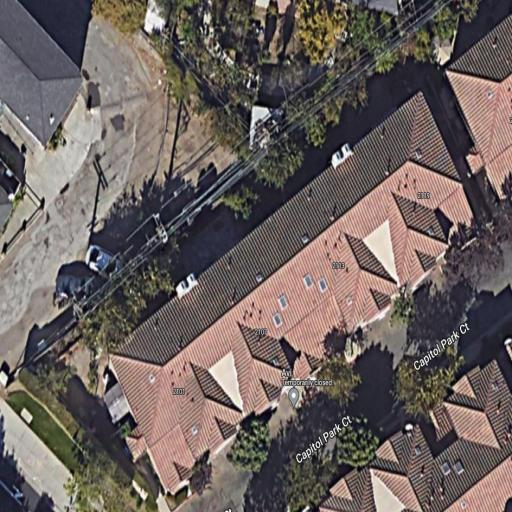Slope-Roof: (107, 91, 480, 494)
